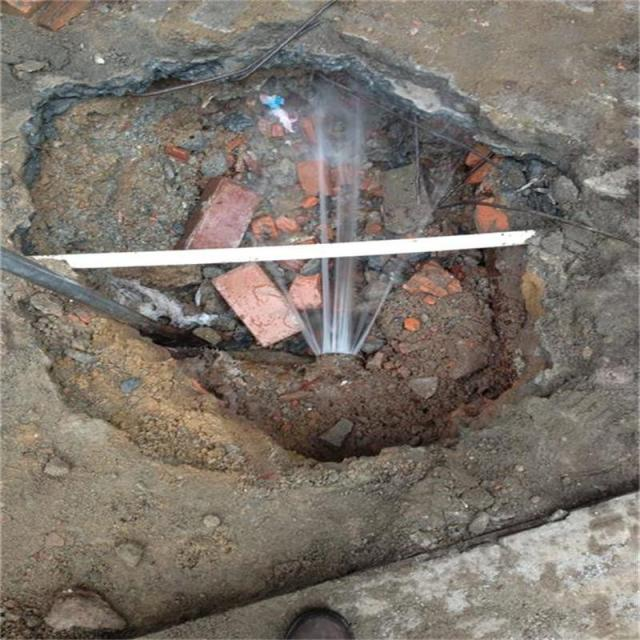leak: (249, 76, 470, 361)
